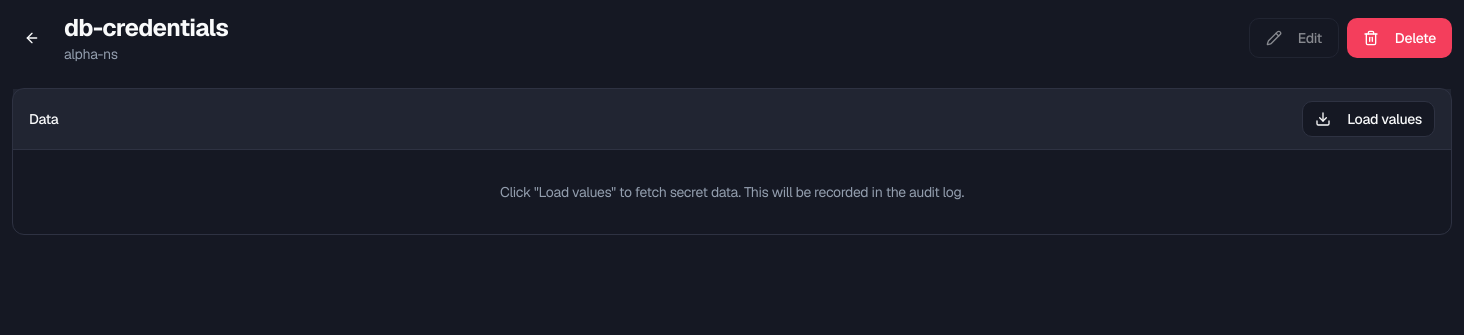
SecretDetailView › fetches and displays secret data when 'Load values' is clicked
Click the button "Load values". click: click(1369, 119)
box: [1302,101,1435,137]
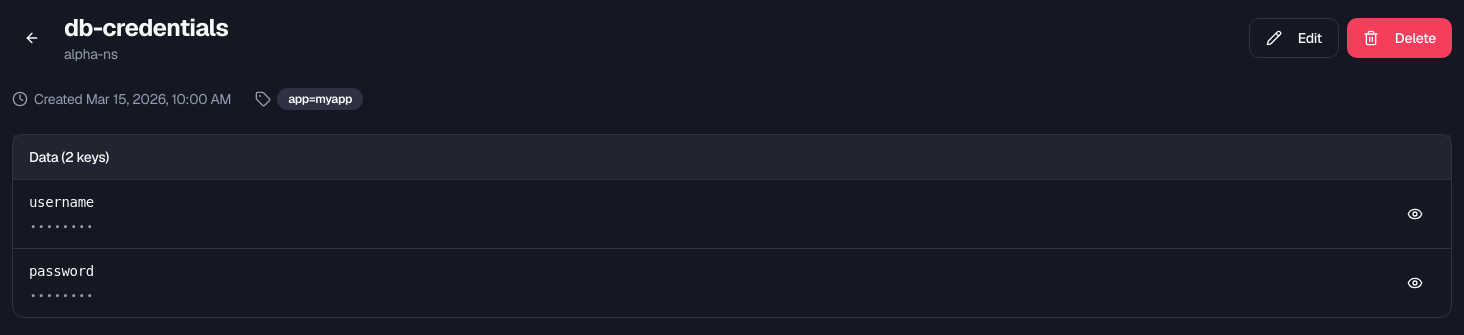
Result: the text "username" is shown at [29,194,94,210]
Result: the text "password" is shown at [29,263,94,279]
Result: the text "••••••••" is shown 2 times at [29,217,94,235]; [29,286,94,304]
